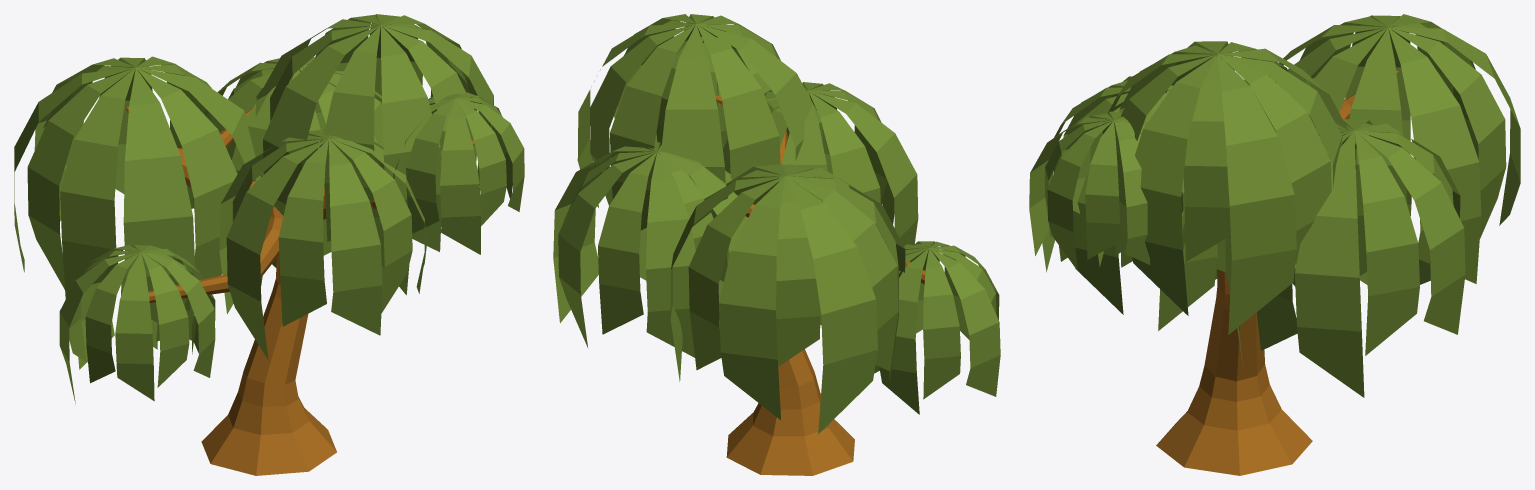
The model's file is WillowTree.glb.
3 renders of one model, left to right at view 1: azimuth 30°, elevation 25°; view 2: azimuth 150°, elevation 25°; view 3: azimuth 270°, elevation 25°, orthographic. The views are drawn at different scales.
Visible parts, largest first — view 1: JungleTree; view 2: JungleTree; view 3: JungleTree.
Part boxes in pixels (x1,y1,x2,y2): JungleTree: [14, 14, 524, 475]; JungleTree: [553, 14, 1000, 475]; JungleTree: [1029, 14, 1520, 475].
Size of the model in its own units: 12.95 by 12.05 by 12.03.
